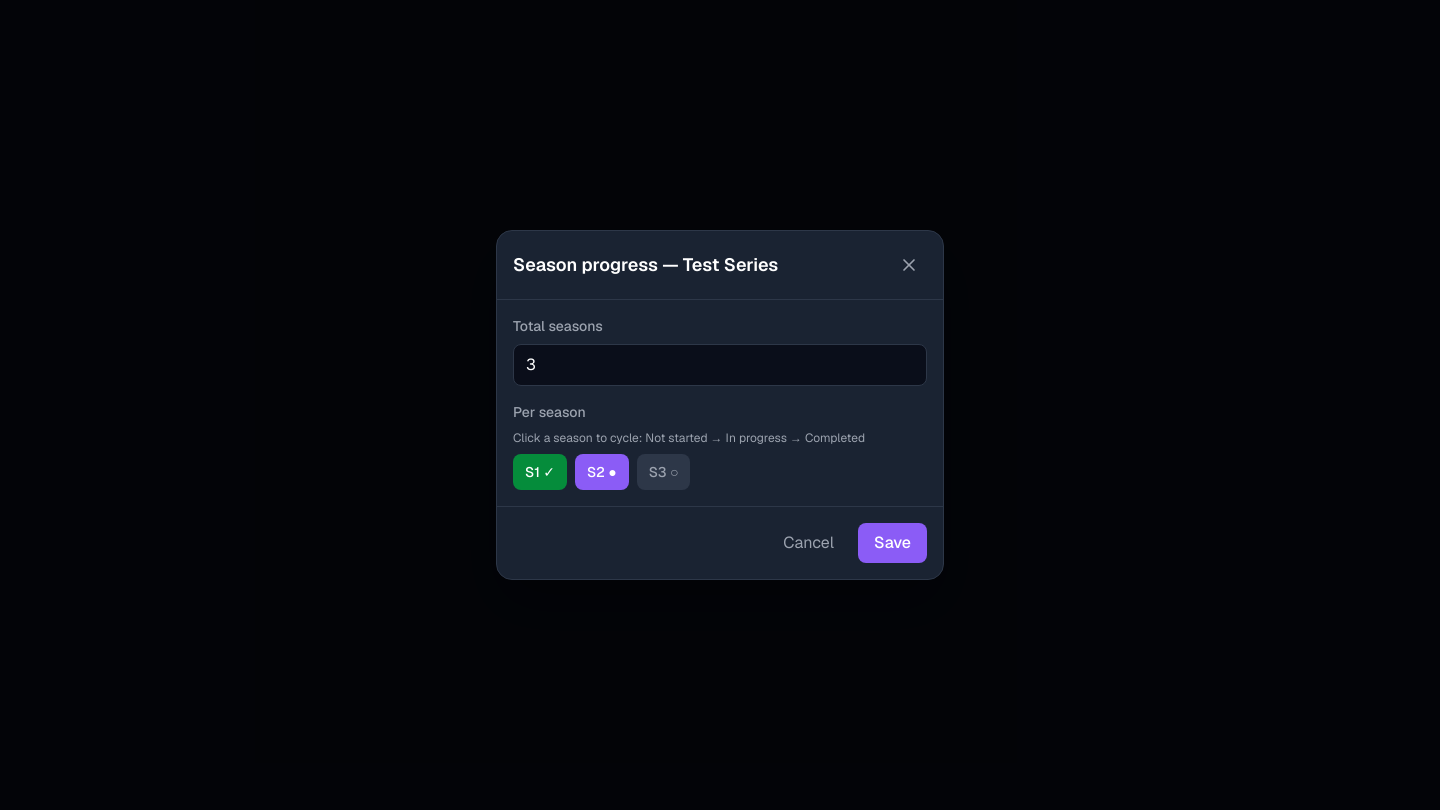
Scenario: SeasonProgressEditor › should update total seasons when input changes
Replace the text in the number field labelled "Total seasons" with "5": x=720, y=365 [513, 344, 927, 386]
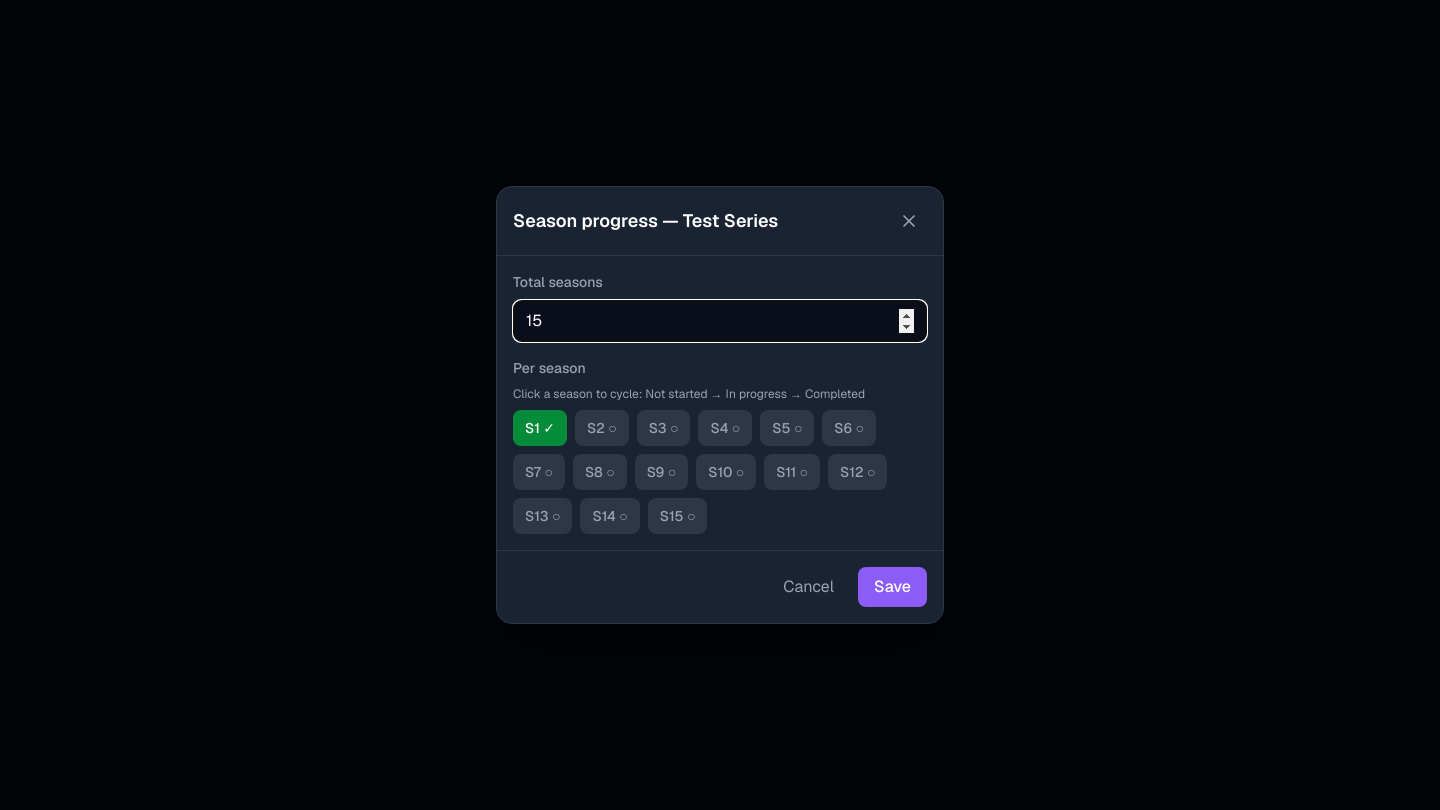
Expected: the button "S5 ○" is shown, [760, 410, 814, 446]
